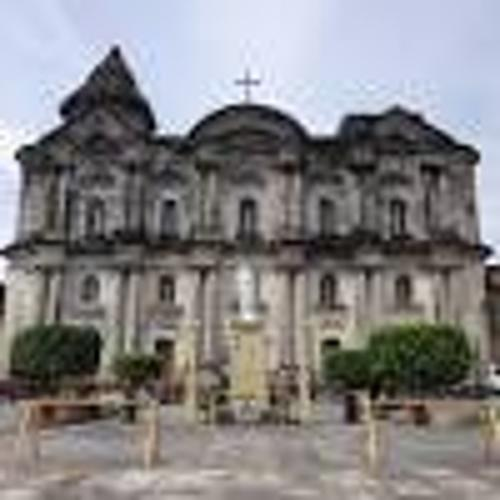Taal Basilica Church: (8, 32, 493, 404)
